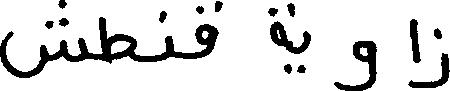X: (0, 0, 84, 82), (418, 23, 449, 90), (337, 36, 374, 90), (100, 12, 135, 68), (197, 0, 216, 62), (270, 3, 284, 74), (166, 8, 174, 63), (411, 14, 416, 90), (305, 26, 310, 74)
